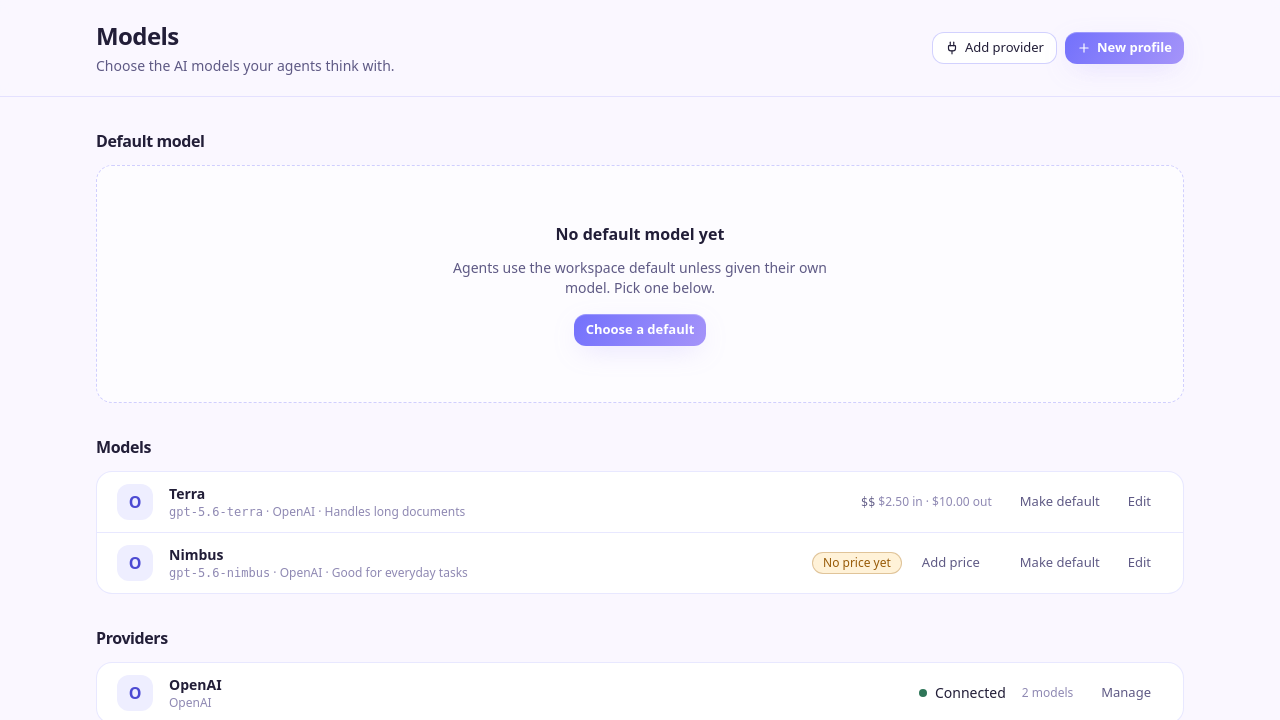
it: ModelsPage › offers Choose a default when no default is set
Expected: the heading "Default model" is shown, [96,130,204,152]
Expected: the text "No default model yet" is shown, [556,222,724,246]
Click the button "Choose a default" at (640, 330), box [574,314,706,346]
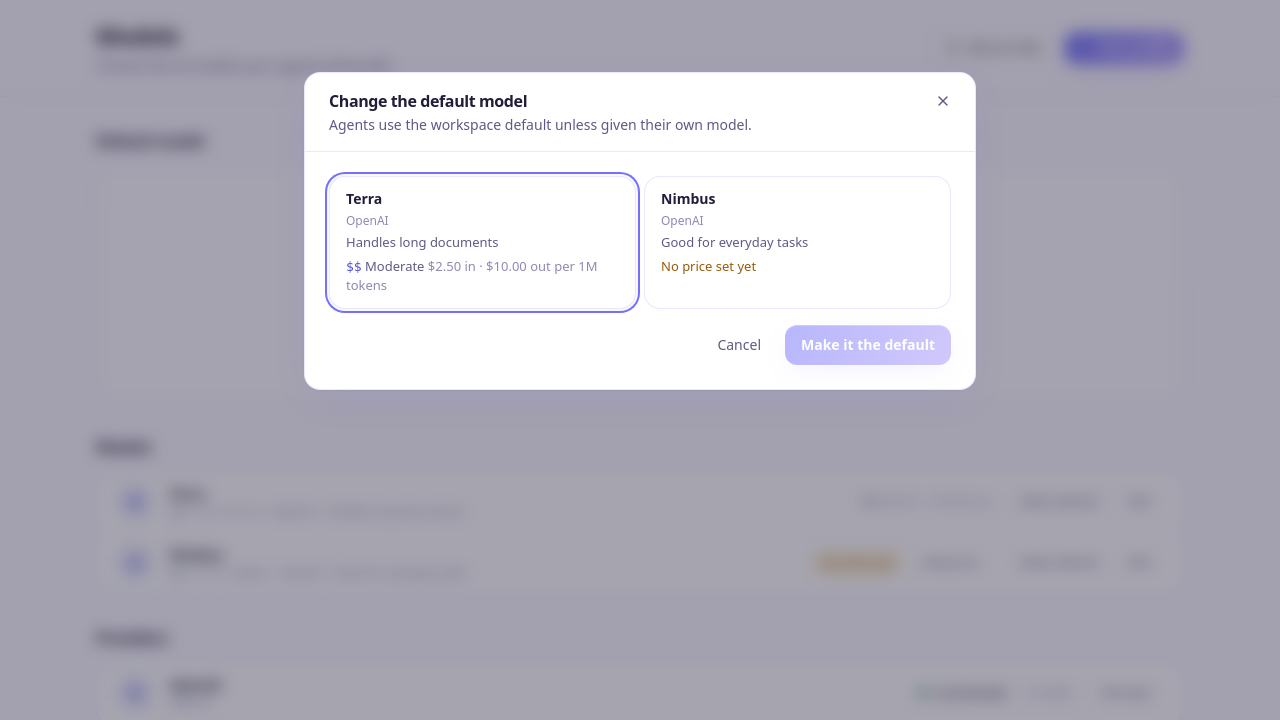
Expected: the dialog "Change the default model" is shown, [304,72,976,390]
